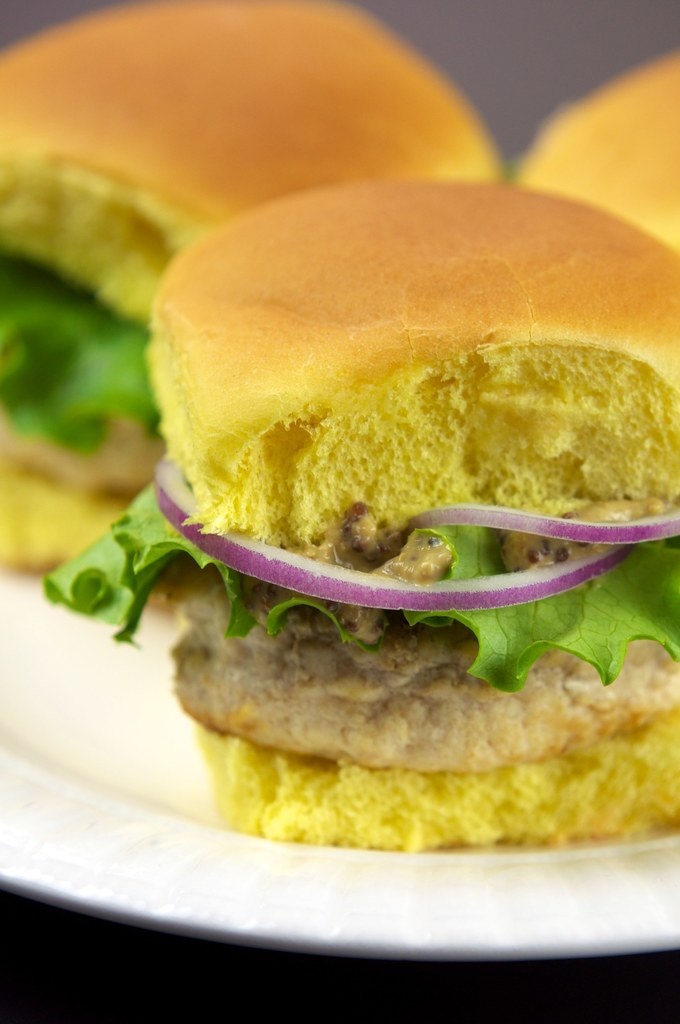Hamburger: (38, 181, 679, 848), (0, 0, 501, 574), (517, 56, 679, 238)
